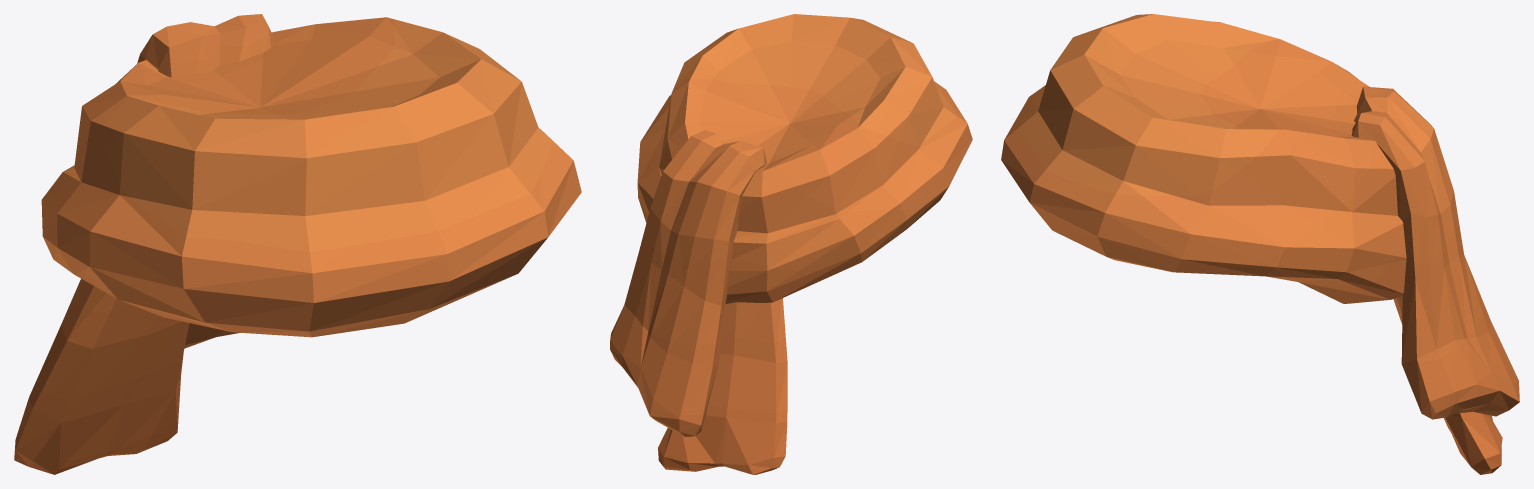
File: CharSkyKid_Neck_AP24TriangleScarf.glb
The picture shows the model from 3 angles, left to right: view 1: azimuth 30°, elevation 25°; view 2: azimuth 150°, elevation 25°; view 3: azimuth 270°, elevation 25°; orthographic projection. The views are drawn at different scales.
Visible parts, largest first — view 1: CharSkyKid_Neck_AP24TriangleScarf; view 2: CharSkyKid_Neck_AP24TriangleScarf; view 3: CharSkyKid_Neck_AP24TriangleScarf.
Part boxes in pixels (box(x1,y1,x2,y2)): CharSkyKid_Neck_AP24TriangleScarf: box(14, 14, 581, 474); CharSkyKid_Neck_AP24TriangleScarf: box(610, 14, 972, 474); CharSkyKid_Neck_AP24TriangleScarf: box(1001, 14, 1519, 474).
Bounding box in the file's own units: 2.68 × 2.99 × 3.44.
Materials: 1 (1 with a texture image).
